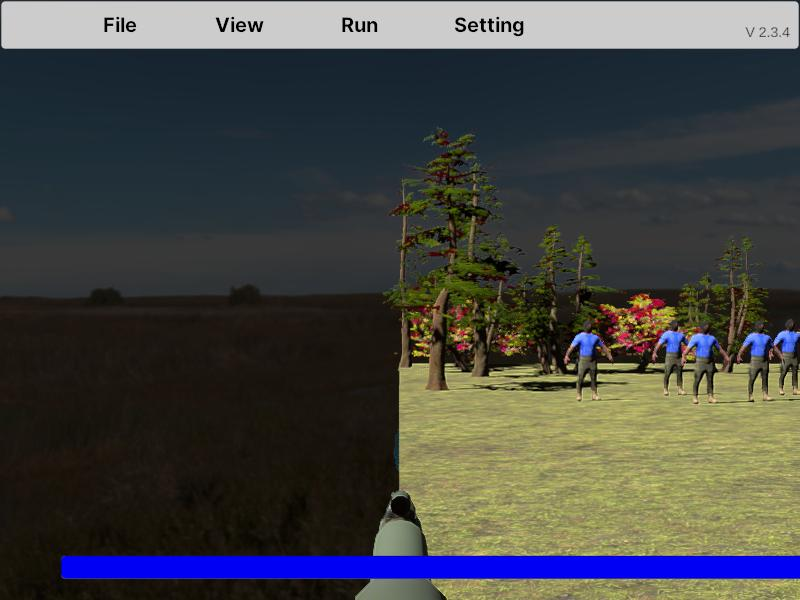Human: (681, 321, 729, 404), (564, 320, 612, 402), (737, 320, 784, 403), (736, 321, 784, 402), (653, 320, 696, 397), (769, 318, 800, 395)
